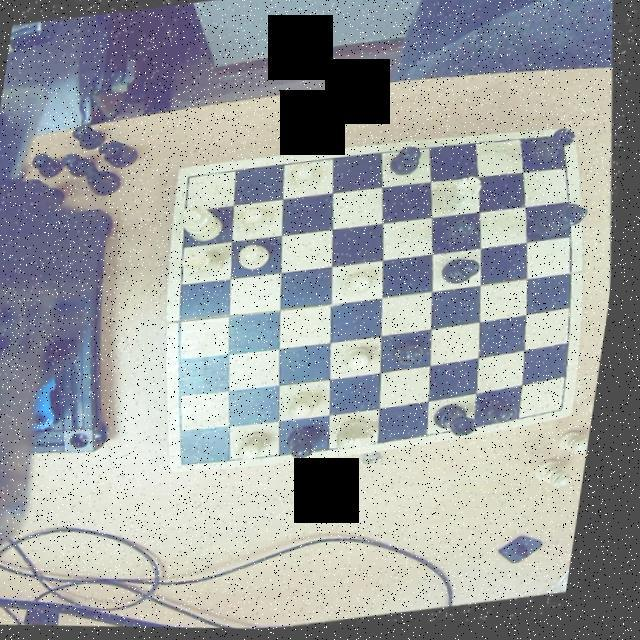chess-table-corners: (180, 448, 210, 474), (180, 168, 208, 194), (548, 130, 580, 151), (558, 398, 584, 422)
